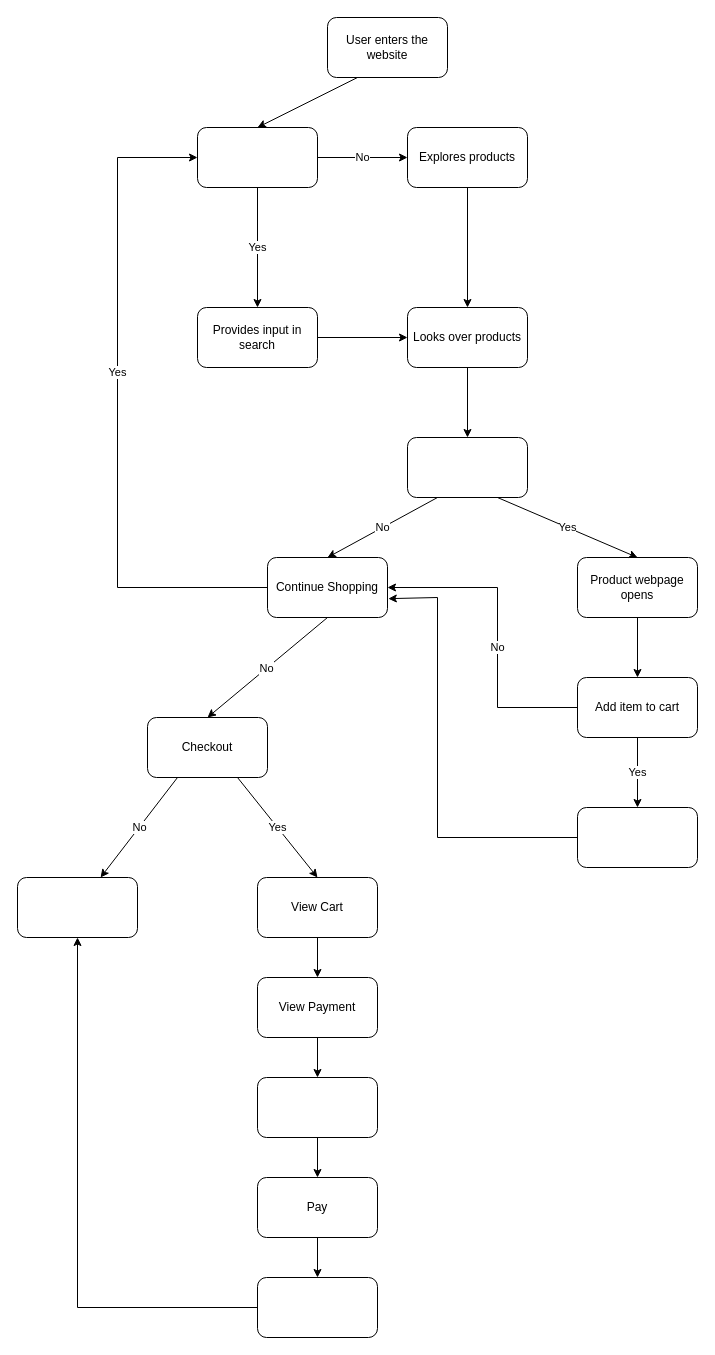
Image size: 715x1355. Some labels were removed from this diagram. The box of each missing label's shape, as (x1, y1, x2, y2) in pixels:
Cart confirmation: (576, 806, 698, 868)
Input payment information: (256, 1076, 378, 1138)
Leave Website: (16, 876, 138, 938)
Order confirmation screen and email: (256, 1276, 378, 1338)
Searches for product: (196, 126, 318, 188)
View specific product: (406, 436, 528, 498)
